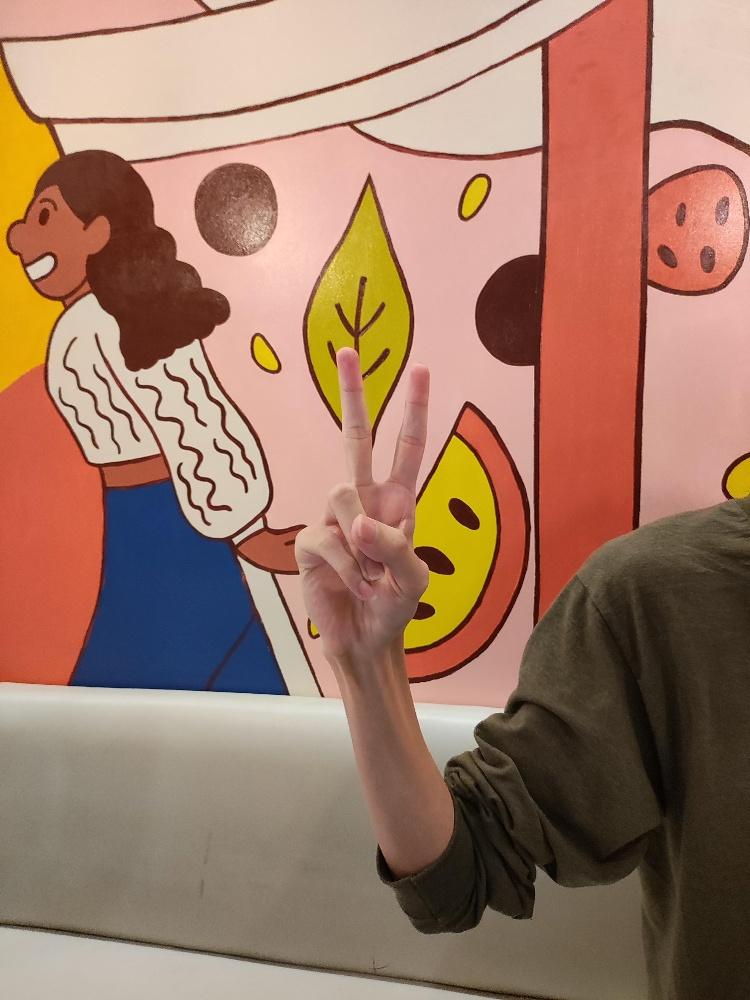v: (291, 343, 432, 658)
